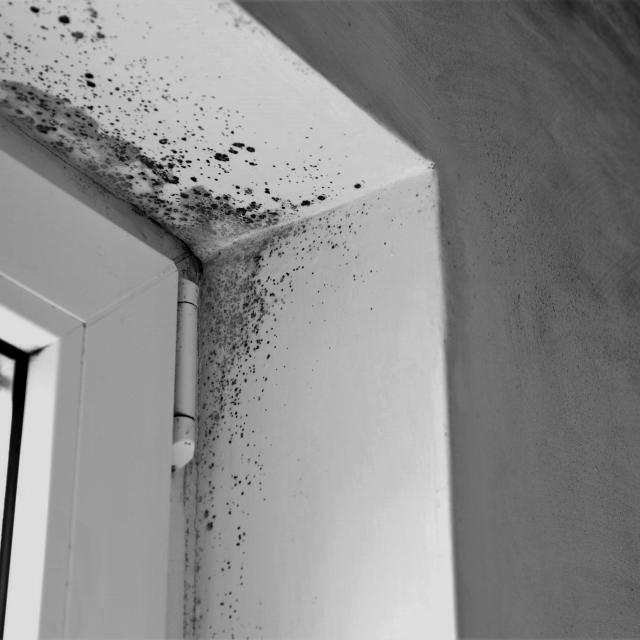stain marks: (449, 0, 637, 640), (0, 0, 445, 260), (193, 262, 288, 638), (288, 262, 396, 351)
